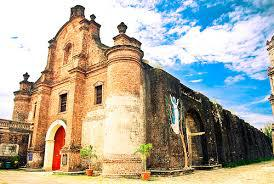Sta. Maria Church: (15, 3, 148, 177)
Unfinished Paint: (83, 95, 148, 154)
